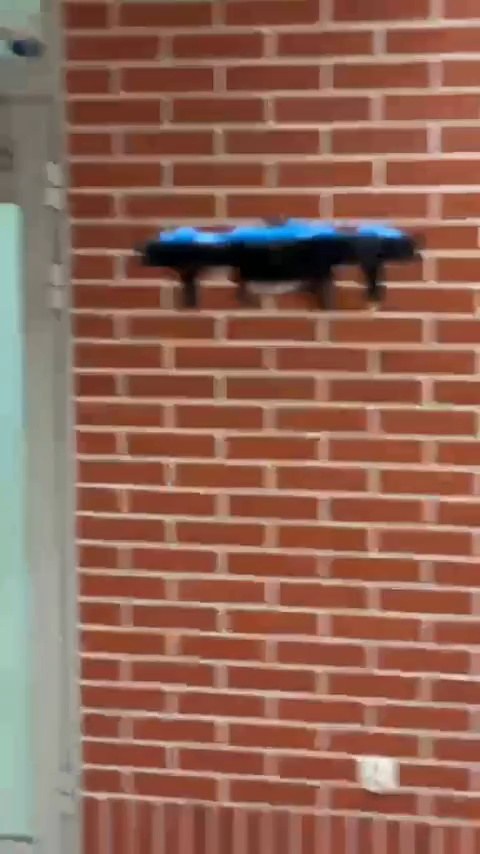drone: (134, 217, 415, 303)
